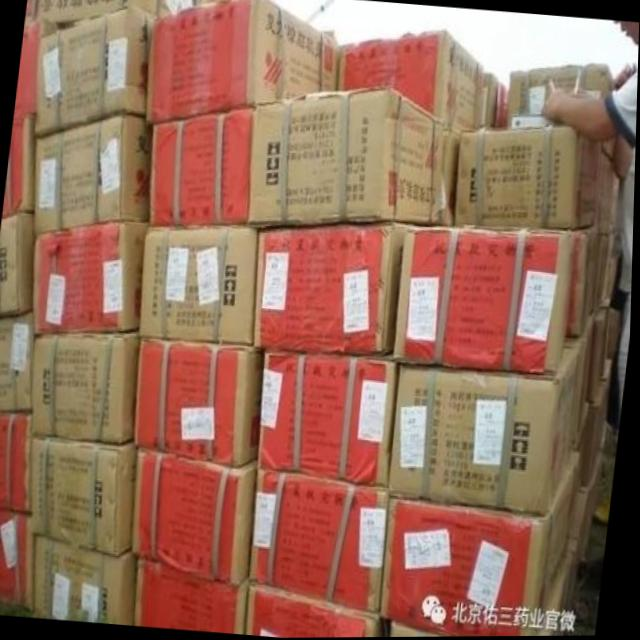box: (384, 453, 582, 637), (390, 338, 589, 515), (250, 89, 461, 228), (394, 226, 576, 374), (146, 0, 338, 122), (254, 224, 422, 356), (251, 469, 392, 613), (259, 350, 401, 487), (134, 447, 260, 588), (135, 336, 267, 468), (35, 8, 161, 135), (455, 125, 602, 229), (339, 31, 484, 131), (34, 115, 153, 234), (140, 225, 259, 344), (33, 221, 149, 334), (32, 435, 139, 554), (33, 330, 142, 444), (150, 108, 254, 225), (37, 535, 140, 624), (137, 558, 252, 635), (249, 582, 390, 638), (506, 64, 614, 127), (14, 18, 62, 114), (0, 510, 38, 610), (0, 211, 35, 319), (0, 308, 35, 411), (0, 409, 34, 514), (2, 111, 34, 220), (539, 552, 576, 637), (568, 227, 596, 338), (581, 380, 607, 488), (35, 0, 158, 22), (595, 152, 615, 235), (592, 232, 612, 314), (592, 307, 610, 397), (602, 135, 634, 182), (587, 459, 601, 565), (572, 492, 590, 573), (605, 239, 622, 306), (480, 72, 500, 127), (583, 318, 594, 413), (602, 355, 613, 444), (156, 0, 195, 18), (612, 174, 623, 232), (610, 307, 621, 358), (496, 84, 509, 127), (24, 0, 36, 21)
